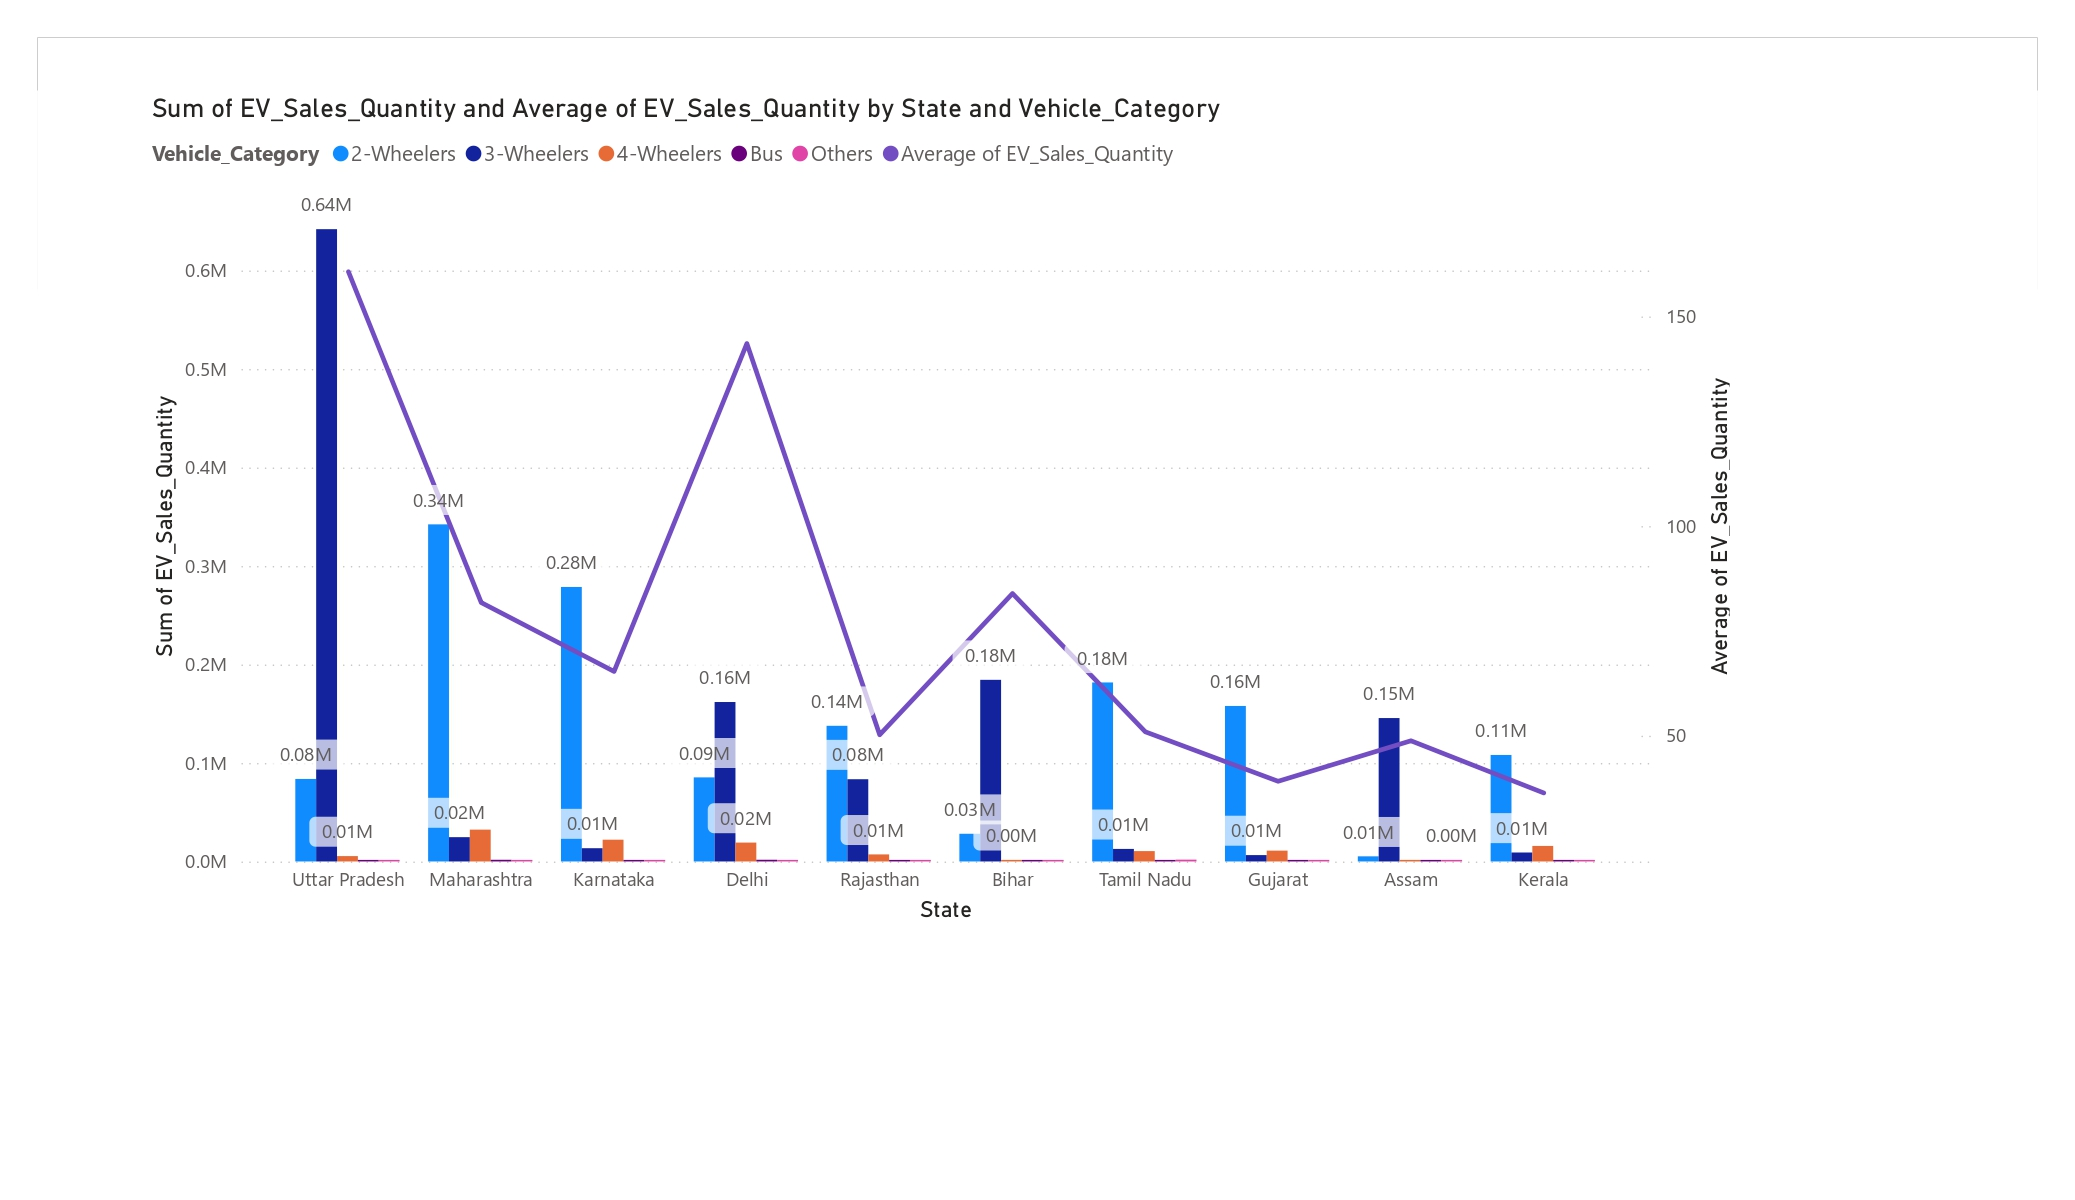

What the dashboard file says about the page in this screenshot:
{"tool":"powerbi","page":{"name":"Page 9","canvas":[1280,720],"ordinal":8},"visuals":[{"type":"lineClusteredColumnComboChart","fields":{"Category":["ev.State"],"Y":["Sum(ev.EV_Sales_Quantity)"],"Y2":["Avg(ev.EV_Sales_Quantity)"],"Series":["ev.Vehicle_Category"]},"box":[67.9,34.8,1020.4,535],"z":0}]}

Visuals, with their boxes on the page's 1280x720 design canvas (x1, y1, x2, y2). These are canvas units, not pixel positions in the 2075x1200 screenshot, which may show the page scaled, cropped or inside an application window:
lineClusteredColumnComboChart - ev.State x Sum(ev.EV_Sales_Quantity): bbox=(68, 35, 1088, 570)
